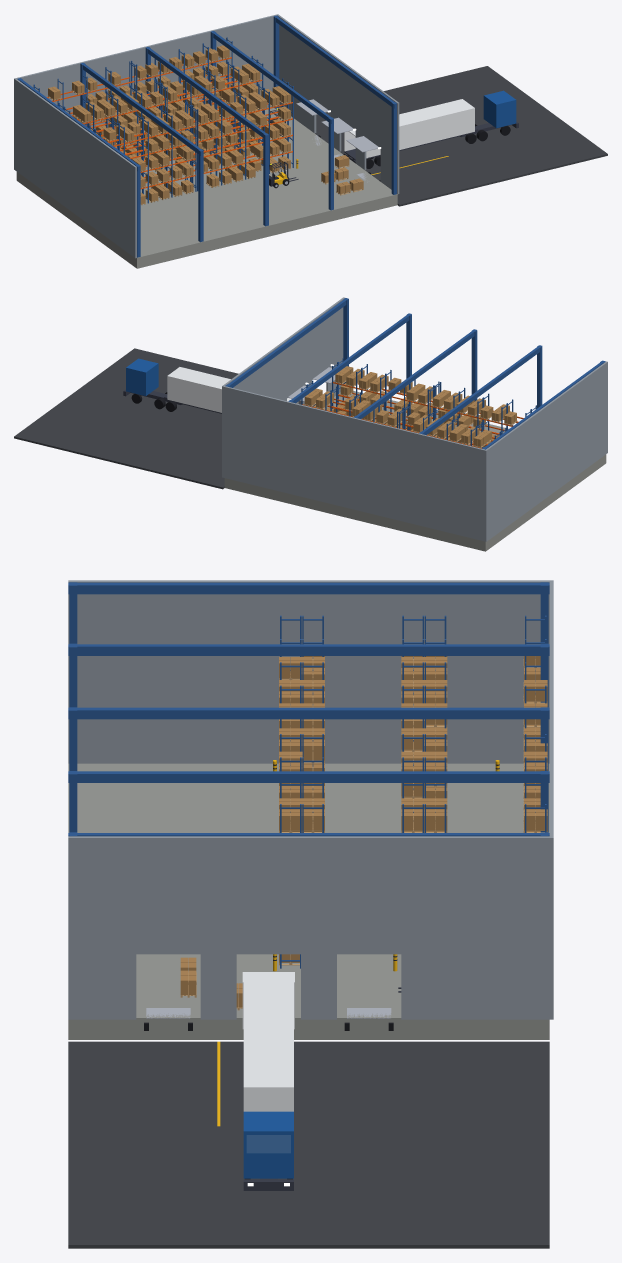
The model's file is ind-003.glb.
The picture shows the model from 3 angles, top to bottom: view 1: azimuth 30°, elevation 25°; view 2: azimuth 150°, elevation 25°; view 3: azimuth 270°, elevation 25°; orthographic projection. The views are drawn at different scales.
Visible parts, largest first — view 1: hangar_cladding, plant_floor, cardboard, apron_asphalt, frame_blue, white, rim_orange, oak, airline_blue, steel, dark_steel, rubber; view 2: hangar_cladding, apron_asphalt, frame_blue, cardboard, plant_floor, white, airline_blue, rim_orange, oak; view 3: hangar_cladding, apron_asphalt, plant_floor, frame_blue, cardboard, white, airline_blue, oak, steel.
Boxes of the visible parts, x1=… form: hangar_cladding: x1=14, y1=14, x2=399, y2=258; plant_floor: x1=16, y1=108, x2=397, y2=268; cardboard: x1=48, y1=45, x2=363, y2=203; apron_asphalt: x1=315, y1=66, x2=607, y2=206; frame_blue: x1=17, y1=15, x2=396, y2=257; white: x1=344, y1=99, x2=474, y2=158; rim_orange: x1=47, y1=57, x2=292, y2=189; oak: x1=48, y1=55, x2=363, y2=205; airline_blue: x1=483, y1=90, x2=516, y2=128; steel: x1=275, y1=99, x2=378, y2=186; dark_steel: x1=269, y1=109, x2=518, y2=181; rubber: x1=273, y1=124, x2=510, y2=188; hangar_cladding: x1=222, y1=297, x2=607, y2=541; apron_asphalt: x1=14, y1=348, x2=315, y2=489; frame_blue: x1=225, y1=298, x2=605, y2=449; cardboard: x1=304, y1=366, x2=516, y2=447; plant_floor: x1=224, y1=391, x2=606, y2=551; white: x1=167, y1=367, x2=298, y2=412; airline_blue: x1=126, y1=358, x2=158, y2=395; rim_orange: x1=302, y1=382, x2=523, y2=448; oak: x1=304, y1=380, x2=517, y2=448; hangar_cladding: x1=68, y1=580, x2=553, y2=1019; apron_asphalt: x1=68, y1=1041, x2=549, y2=1248; plant_floor: x1=68, y1=763, x2=549, y2=1039; frame_blue: x1=68, y1=582, x2=549, y2=968; cardboard: x1=180, y1=656, x2=547, y2=1007; white: x1=242, y1=972, x2=294, y2=1111; airline_blue: x1=243, y1=1111, x2=293, y2=1178; oak: x1=180, y1=659, x2=547, y2=1010; steel: x1=146, y1=1008, x2=391, y2=1018.
Bounding box in the file's own units: 54.4 × 11.4 × 24.2.
